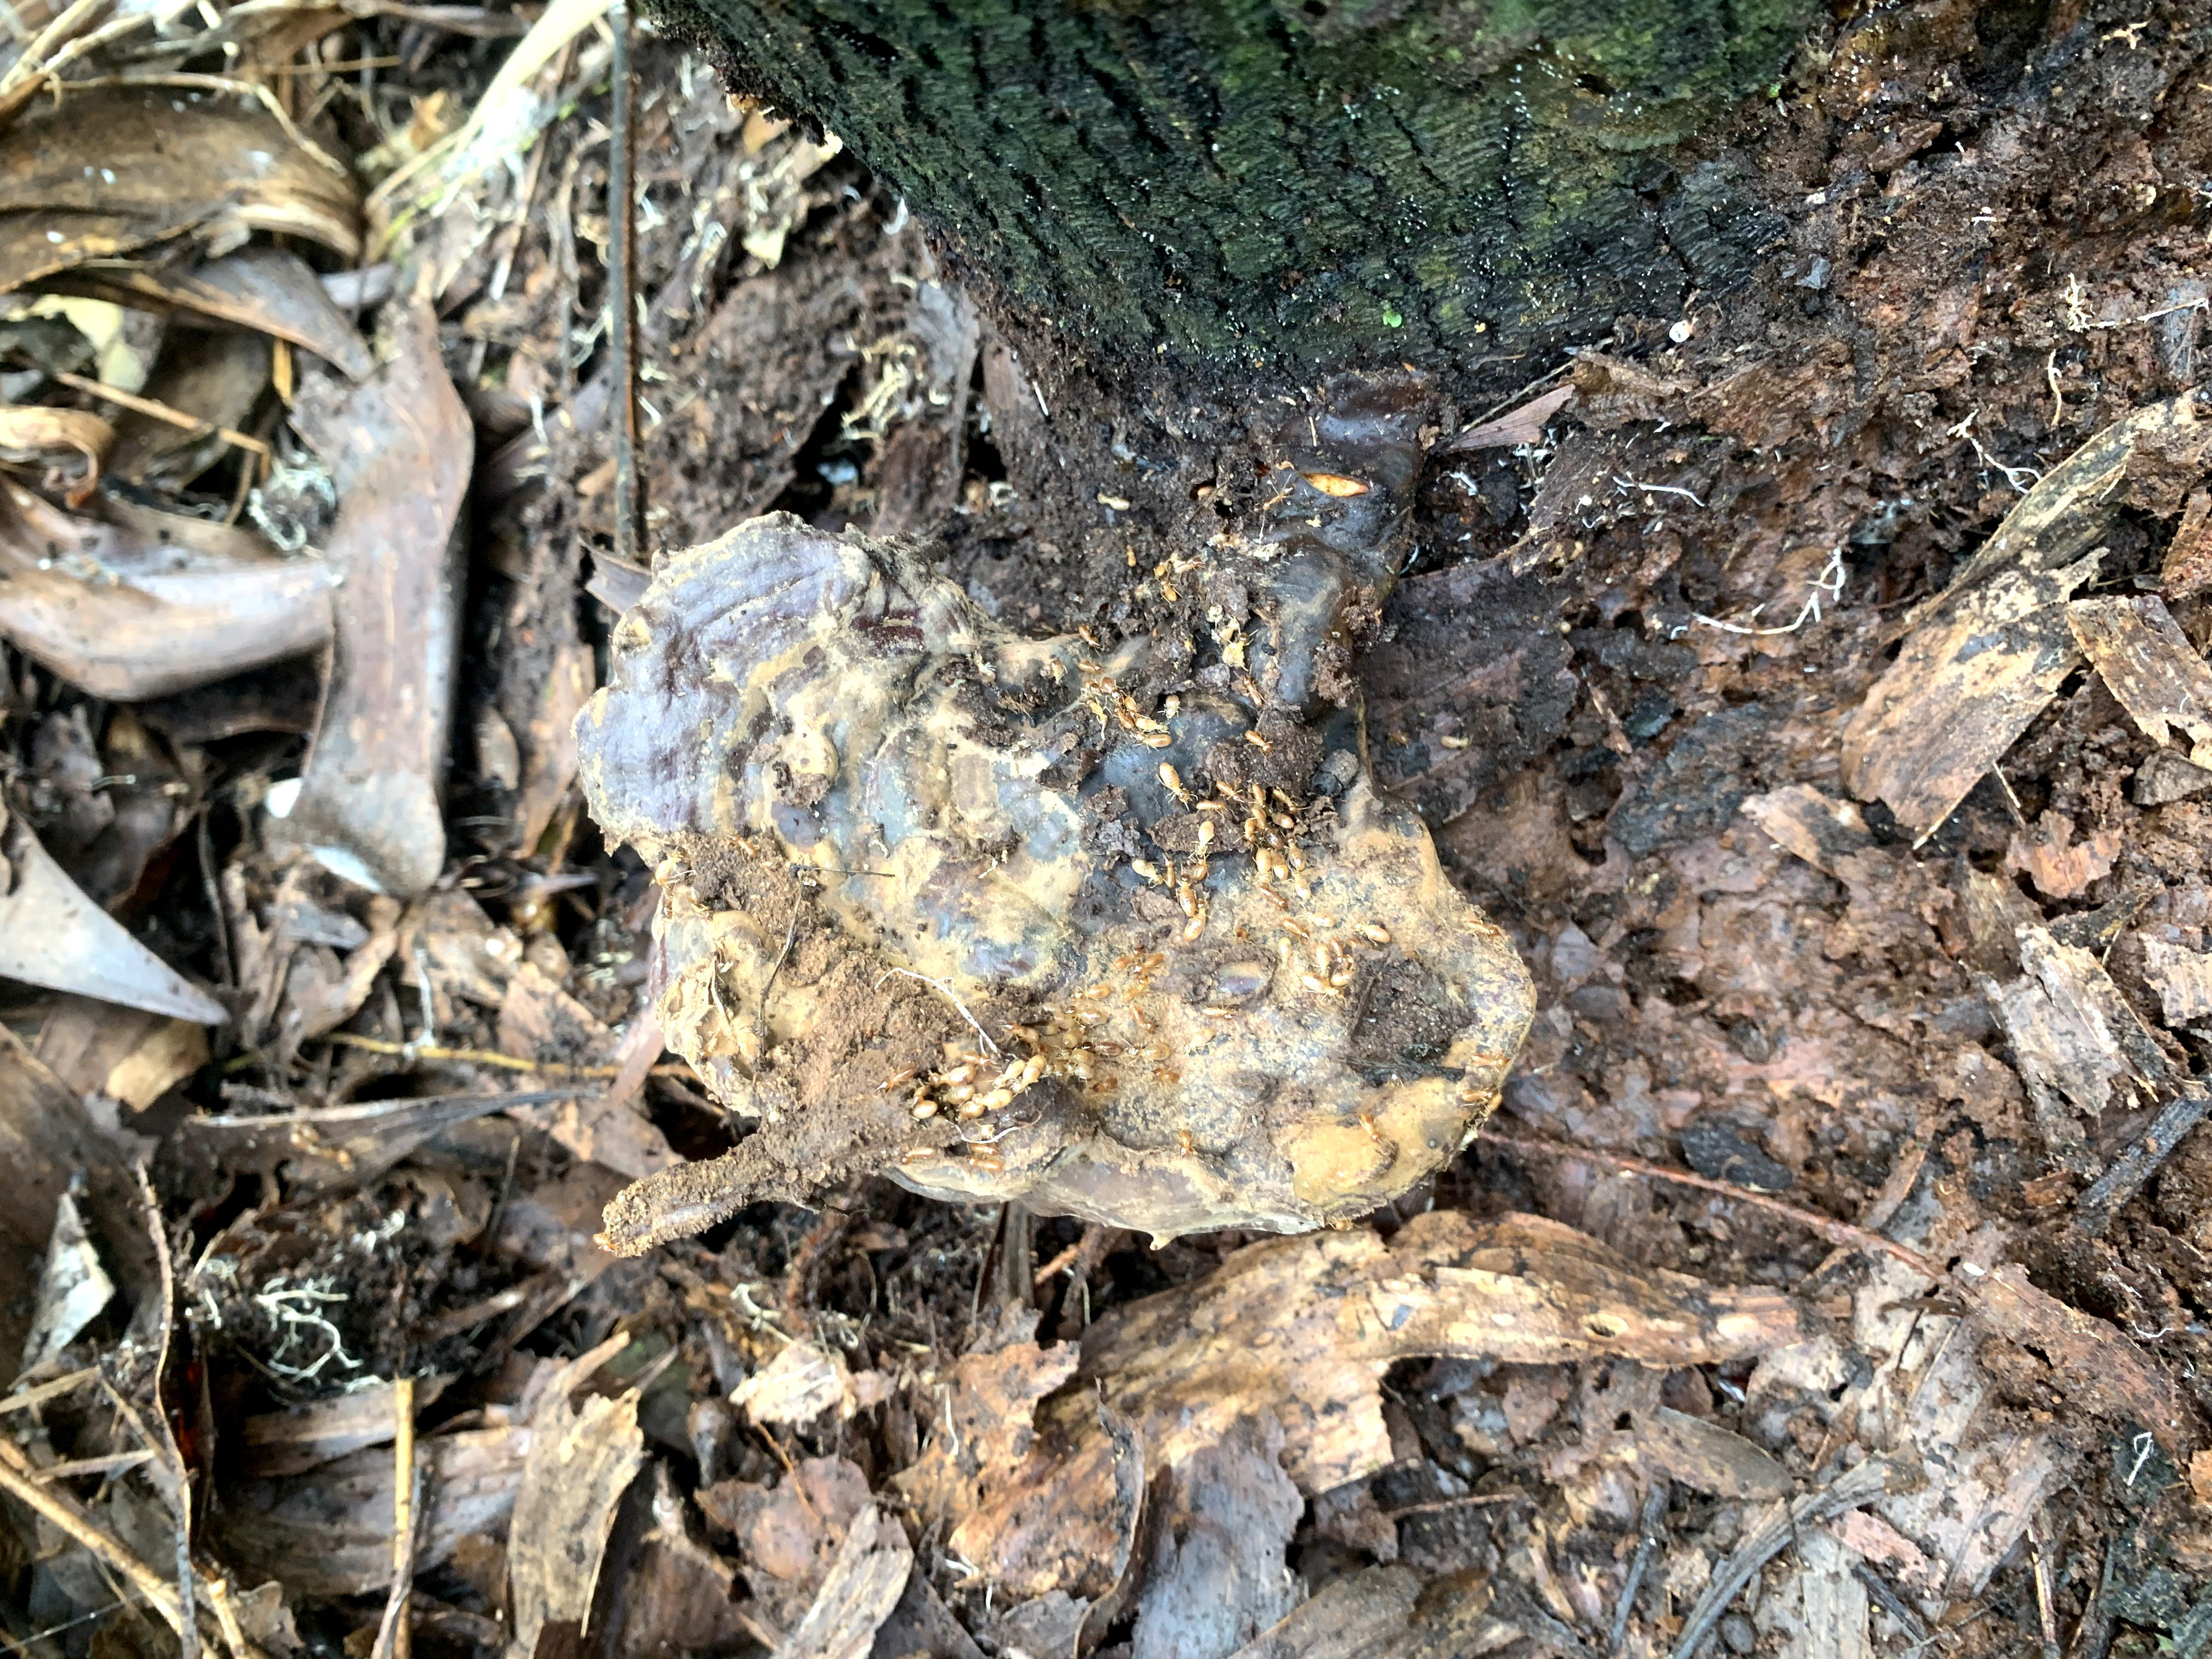Ganoderma - Fruit Body: (587, 505, 1522, 1220)
